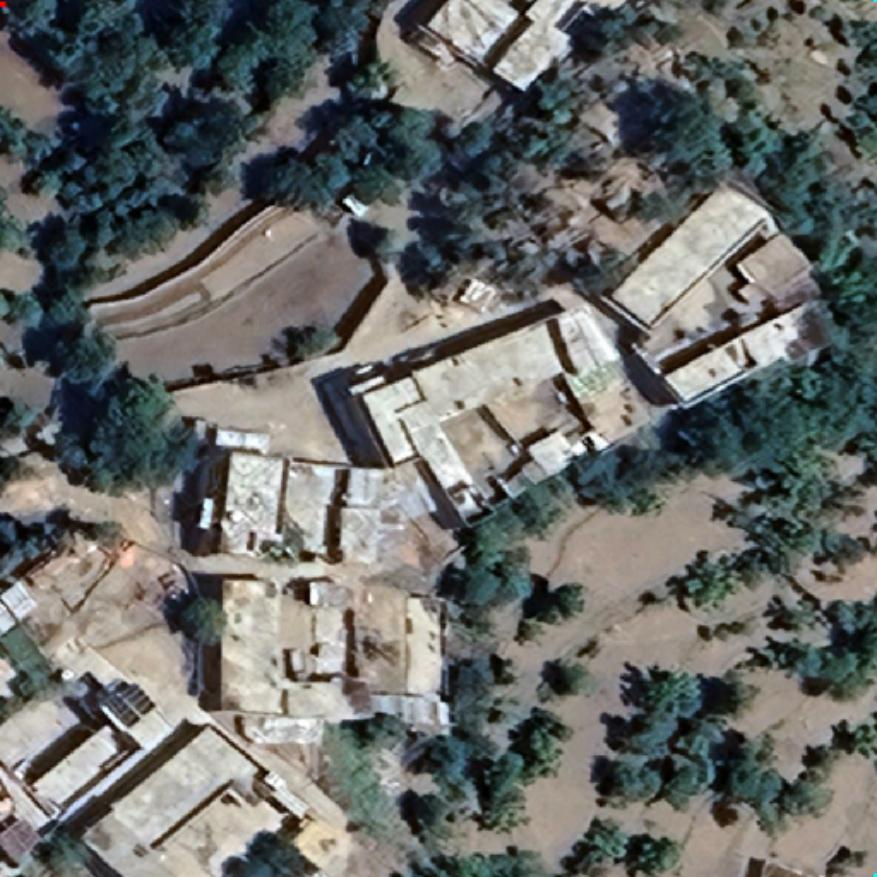Solarpanel: (97, 678, 157, 730)
